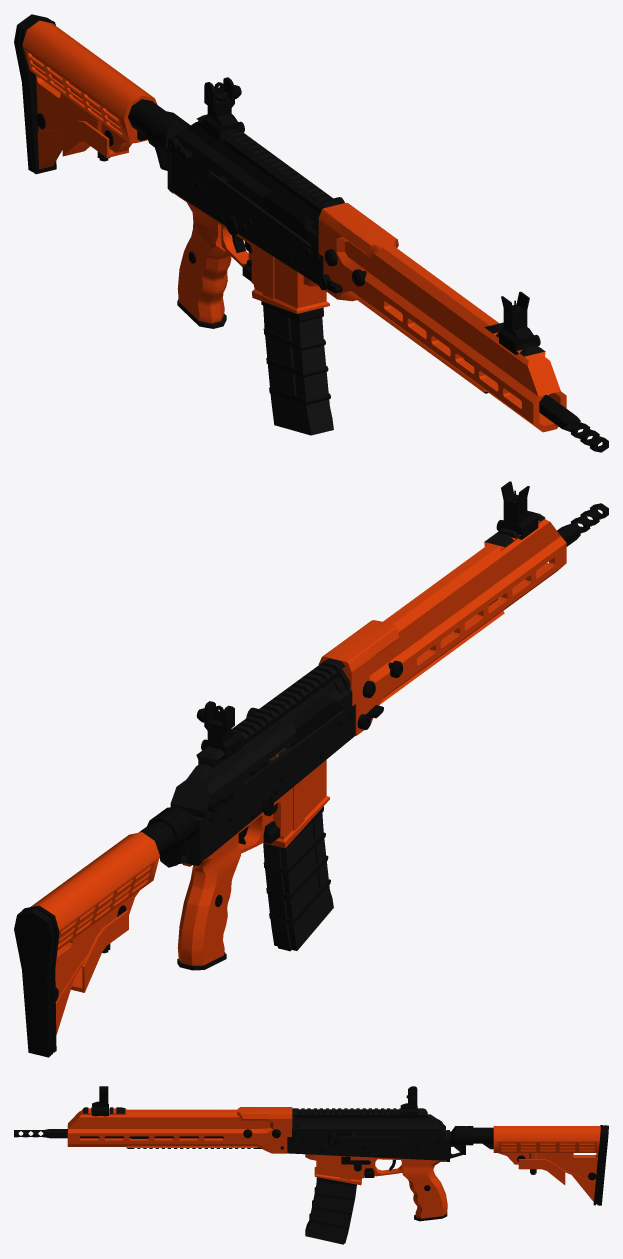
The model's file is ksr1_w.fbx.
The picture shows the model from 3 angles, top to bottom: view 1: azimuth 30°, elevation 25°; view 2: azimuth 150°, elevation 25°; view 3: azimuth 270°, elevation 25°; orthographic projection. The views are drawn at different scales.
Parts seen in each view (by area): view 1: polySurface14, polySurface19; view 2: polySurface14, polySurface19; view 3: polySurface14, polySurface19.
Boxes of the visible parts, x1=… form: polySurface14: x1=14, y1=14, x2=608, y2=452; polySurface19: x1=261, y1=301, x2=333, y2=435; polySurface14: x1=14, y1=481, x2=608, y2=1057; polySurface19: x1=261, y1=745, x2=333, y2=951; polySurface14: x1=14, y1=1086, x2=608, y2=1221; polySurface19: x1=305, y1=1132, x2=356, y2=1244.
Size of the model in its own units: 9.2 by 37.2 by 131.
